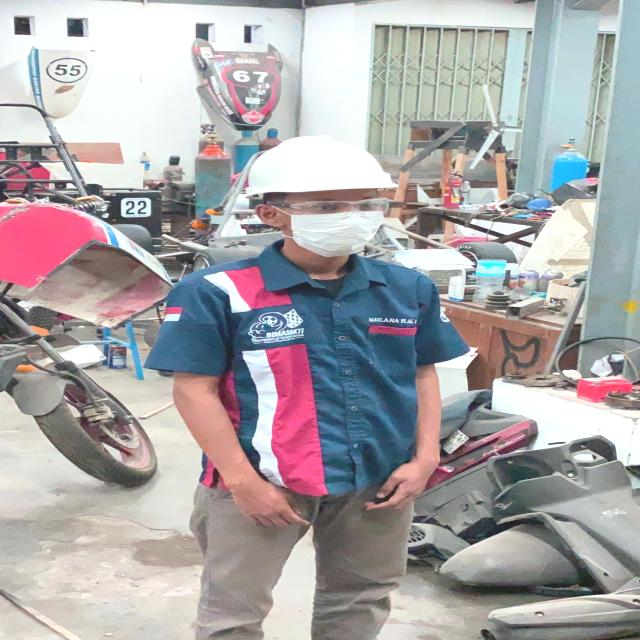face_mask: (286, 190, 393, 256)
glasses: (275, 196, 395, 219)
hand_noglove: (223, 480, 312, 531), (358, 464, 439, 516)
head_helmet: (231, 134, 404, 198)
person: (148, 130, 482, 640)
